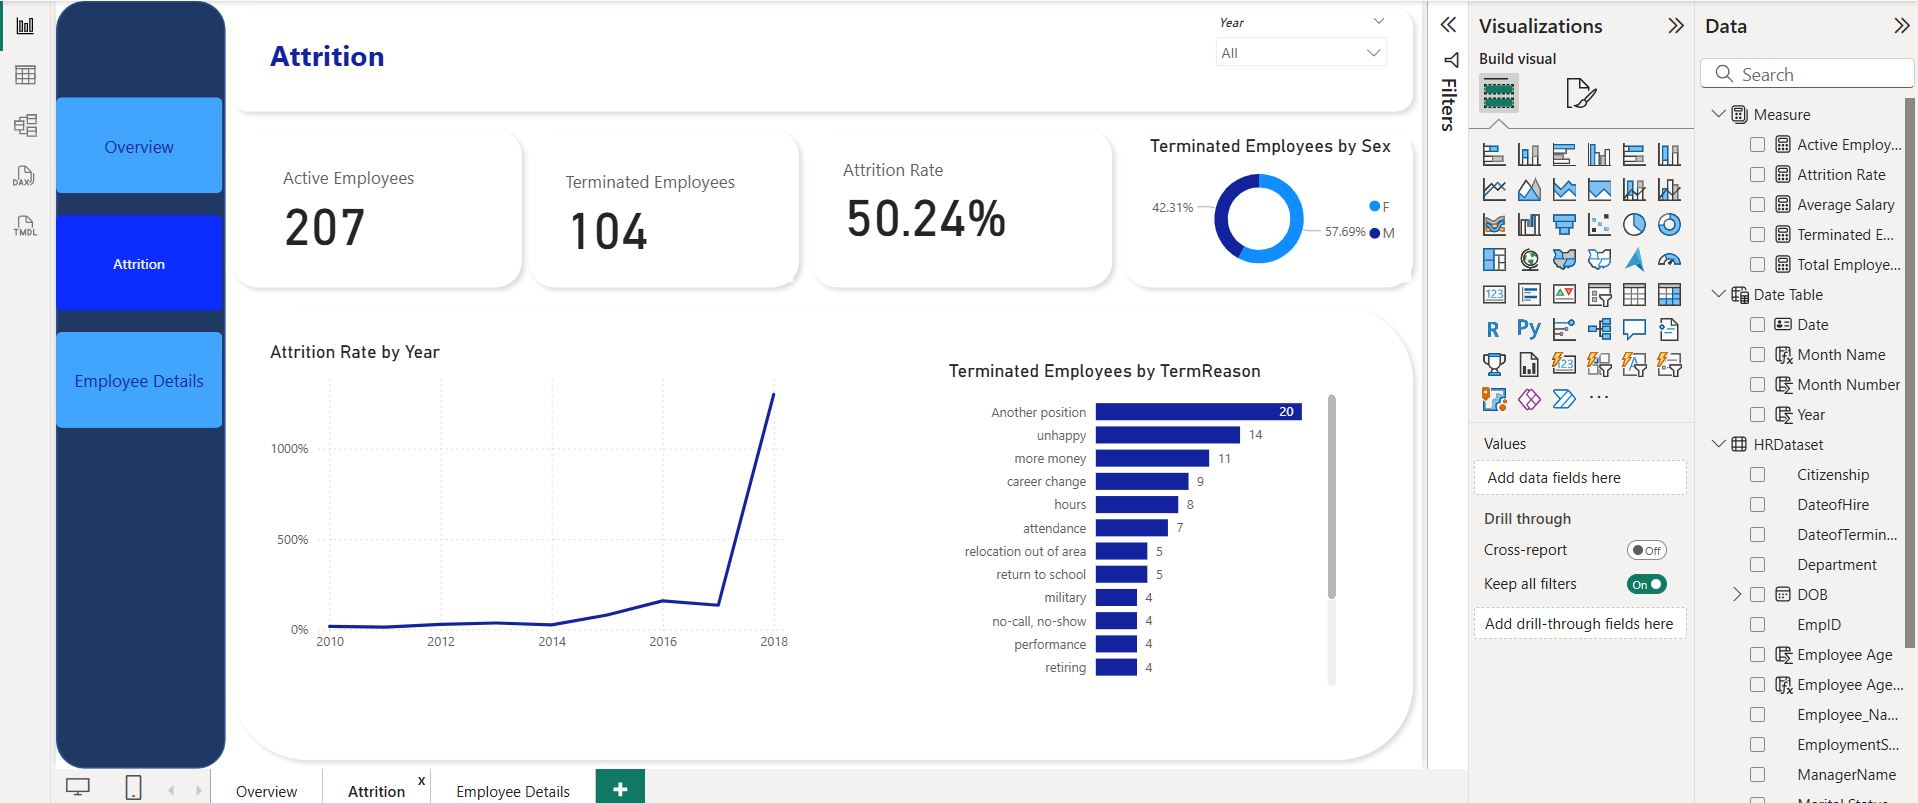

The dashboard page shown, as its layout file describes it:
{"tool":"powerbi","page":{"name":"Attrition","canvas":[1280,720],"ordinal":1},"visuals":[{"type":"textbox","box":[196.2,27.4,238.8,52.1],"z":0},{"type":"cardVisual","fields":{"Data":["Measure.Attrition Rate"]},"box":[720.4,124.9,220.9,126.2],"z":1000},{"type":"cardVisual","fields":{"Data":["Measure.Terminated Employees"]},"box":[461.1,137.2,230.5,126.2],"z":2000},{"type":"cardVisual","fields":{"Data":["Measure.Active Employees"]},"box":[196.2,137.2,220.9,113.9],"z":3000},{"type":"donutChart","fields":{"Y":["Measure.Terminated Employees"],"Category":["HRDataset.Sex"]},"box":[1020.9,124.9,249.7,138.6],"z":4000},{"type":"lineChart","fields":{"Y":["Measure.Attrition Rate"],"Category":["Date Table.Year","Date Table.Month Name"]},"box":[196.2,318.4,495.4,300.5],"z":5000},{"type":"barChart","fields":{"Y":["Measure.Terminated Employees"],"Category":["HRDataset.TermReason"]},"box":[831.6,336.2,373.2,311.5],"z":6000},{"type":"slicer","fields":{"Values":["Date Table.Year"]},"box":[1077.2,8.2,181.1,90.6],"z":7000},{"type":"pageNavigator","box":[0,90.6,156.4,311.5],"z":8000}]}

Visuals, with their boxes on the page's 1280x720 design canvas (x1, y1, x2, y2). These are canvas units, not pixel positions in the 1918x803 screenshot, which may show the page scaled, cropped or inside an application window:
textbox: detection(196, 27, 435, 80)
cardVisual - Measure.Attrition Rate: detection(720, 125, 941, 251)
cardVisual - Measure.Terminated Employees: detection(461, 137, 692, 263)
cardVisual - Measure.Active Employees: detection(196, 137, 417, 251)
donutChart - Measure.Terminated Employees x HRDataset.Sex: detection(1021, 125, 1271, 264)
lineChart - Measure.Attrition Rate x Date Table.Year: detection(196, 318, 692, 619)
barChart - Measure.Terminated Employees x HRDataset.TermReason: detection(832, 336, 1205, 648)
slicer - Date Table.Year: detection(1077, 8, 1258, 99)
pageNavigator: detection(0, 91, 156, 402)
